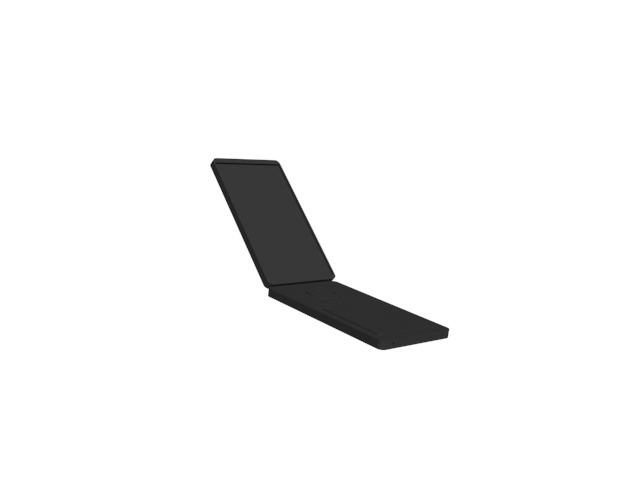mobile_phone: (209, 153, 456, 352)
